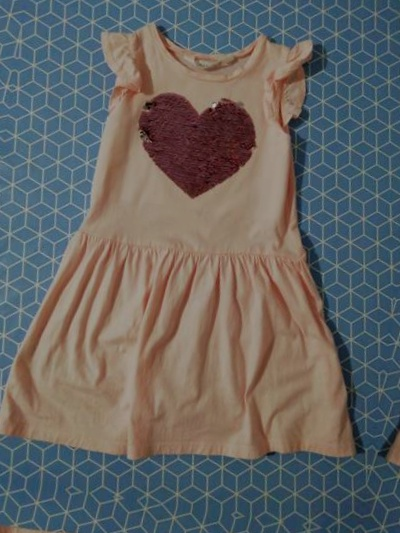Dress: (0, 0, 400, 501), (0, 507, 329, 533), (390, 47, 400, 533)
